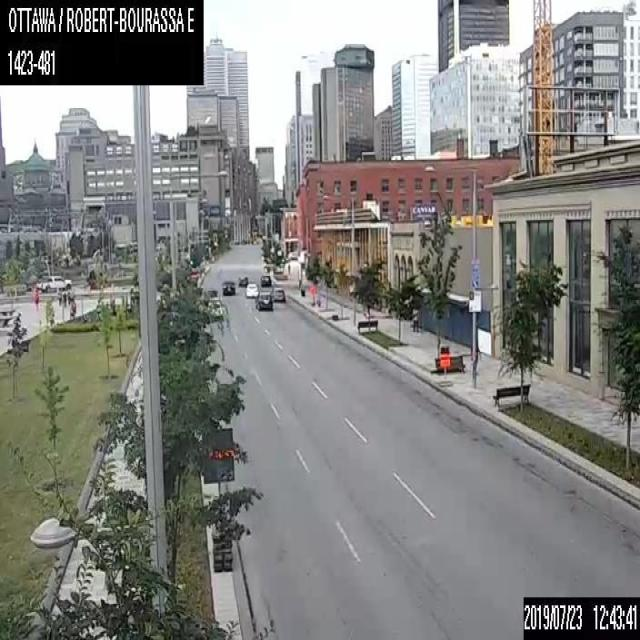construction: (201, 427, 234, 571), (438, 351, 450, 385), (310, 285, 316, 305)
pedestrian: (410, 304, 418, 333), (285, 262, 290, 278), (34, 292, 38, 310), (62, 291, 66, 305), (58, 292, 61, 305)
vehicle: (35, 274, 71, 291), (254, 290, 272, 310), (207, 296, 222, 318), (221, 280, 234, 295), (270, 286, 283, 301), (245, 282, 258, 297), (260, 274, 270, 286), (238, 275, 248, 286)
